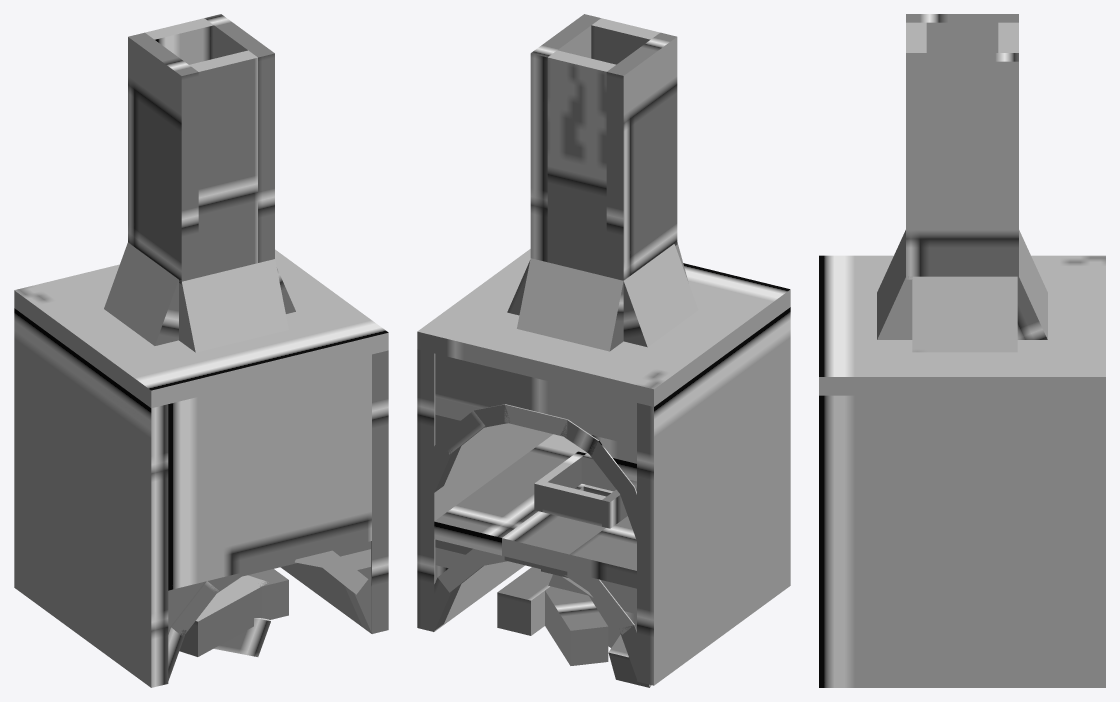
File: brick_kiln.obj
3 views of the same model, side by side, from view 1: azimuth 30°, elevation 25°; view 2: azimuth 150°, elevation 25°; view 3: azimuth 270°, elevation 25° (orthographic). The views are drawn at different scales.
Visible parts, largest first — view 1: cube; view 2: cube; view 3: cube.
Boxes of the visible parts, x1,y1,x2,y2 form: cube: (14, 14, 388, 687); cube: (417, 14, 790, 687); cube: (819, 14, 1105, 687).
Size of the model in its own units: 0.875 by 2.13 by 0.875.
